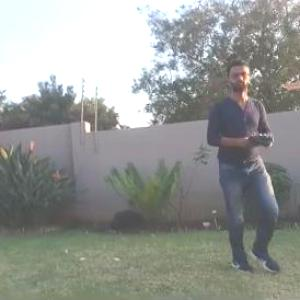follow: (206, 52, 299, 278)
